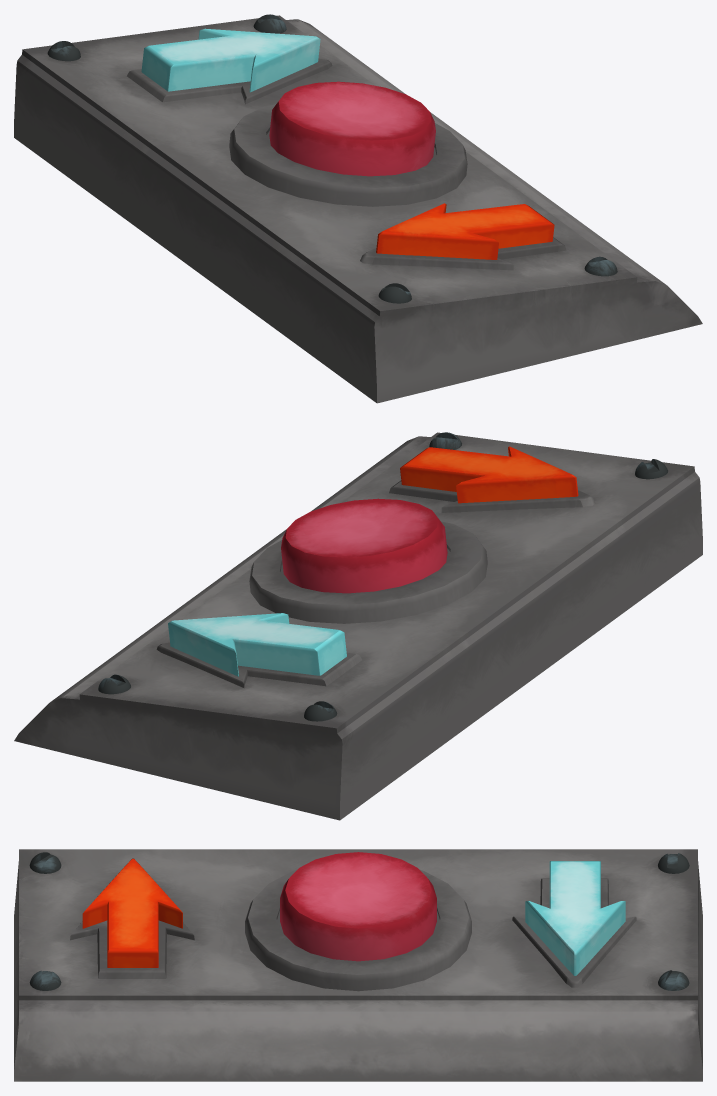
File: FreezerButtonPanel.fbx
The picture shows the model from 3 angles, top to bottom: view 1: azimuth 30°, elevation 25°; view 2: azimuth 150°, elevation 25°; view 3: azimuth 270°, elevation 25°; orthographic projection. The views are drawn at different scales.
Parts seen in each view (by area): view 1: MainPanel, Open_CloseButton, DecreaseTempButton, IncreaseTempButton; view 2: MainPanel, Open_CloseButton, DecreaseTempButton, IncreaseTempButton; view 3: MainPanel, Open_CloseButton, DecreaseTempButton, IncreaseTempButton.
Part boxes in pixels (bbox=[...]): MainPanel: bbox=[14, 14, 702, 403]; Open_CloseButton: bbox=[269, 81, 435, 176]; DecreaseTempButton: bbox=[141, 28, 320, 92]; IncreaseTempButton: bbox=[376, 203, 554, 259]; MainPanel: bbox=[14, 432, 702, 820]; Open_CloseButton: bbox=[281, 498, 447, 593]; DecreaseTempButton: bbox=[168, 613, 346, 676]; IncreaseTempButton: bbox=[400, 446, 578, 503]; MainPanel: bbox=[14, 849, 702, 1081]; Open_CloseButton: bbox=[280, 852, 436, 961]; DecreaseTempButton: bbox=[525, 861, 625, 975]; IncreaseTempButton: bbox=[82, 858, 182, 967].
Size of the model in its own units: 8.98 by 3.38 by 17.32.
Materials: 5 (5 with a texture image).
